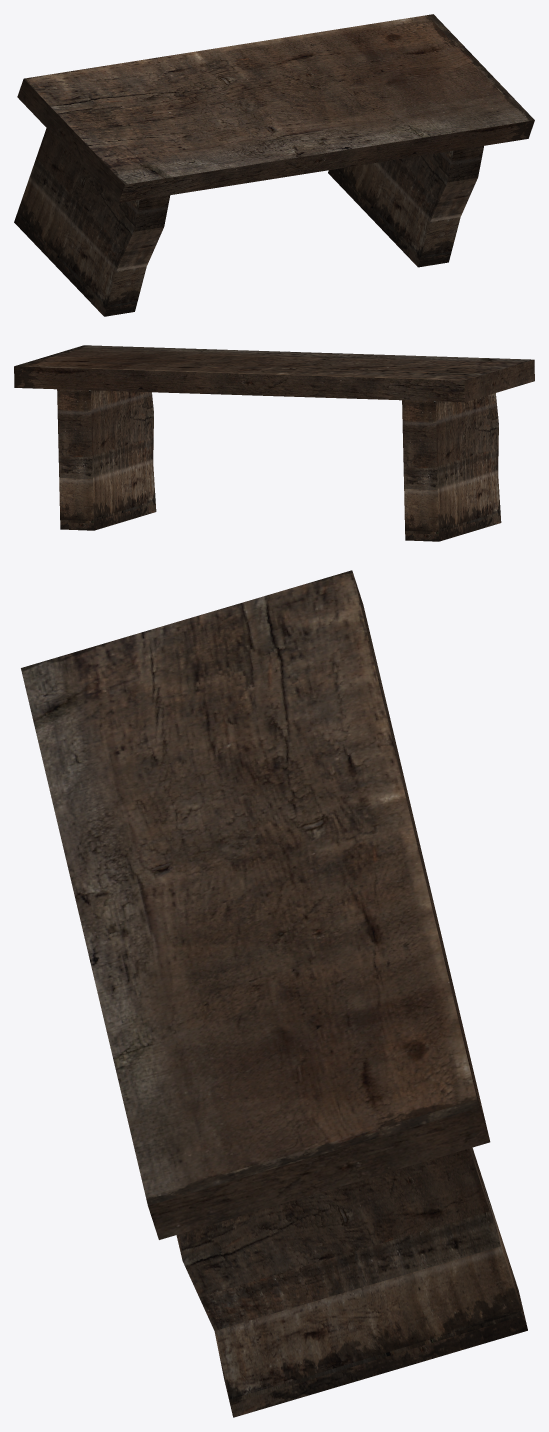
File: desk_01.FBX
3 renders of one model, top to bottom at view 1: azimuth 30°, elevation 25°; view 2: azimuth 150°, elevation 25°; view 3: azimuth 270°, elevation 25°, orthographic. The views are drawn at different scales.
Parts seen in each view (by area): view 1: Desk; view 2: Desk; view 3: Desk.
Part boxes in pixels (left/top/right/bottom): Desk: left=14, top=14, right=534, bottom=316; Desk: left=14, top=345, right=534, bottom=541; Desk: left=21, top=570, right=527, bottom=1417.
Size of the model in its own units: 533 by 284 by 269.
